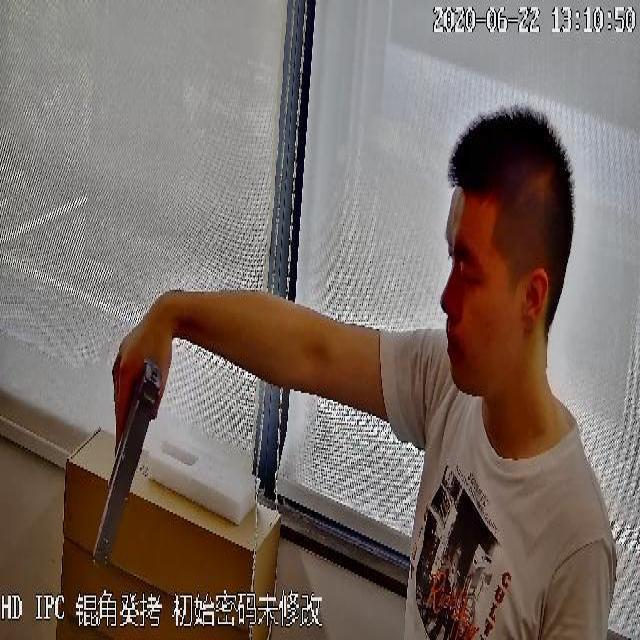pistol: (89, 357, 168, 575)
